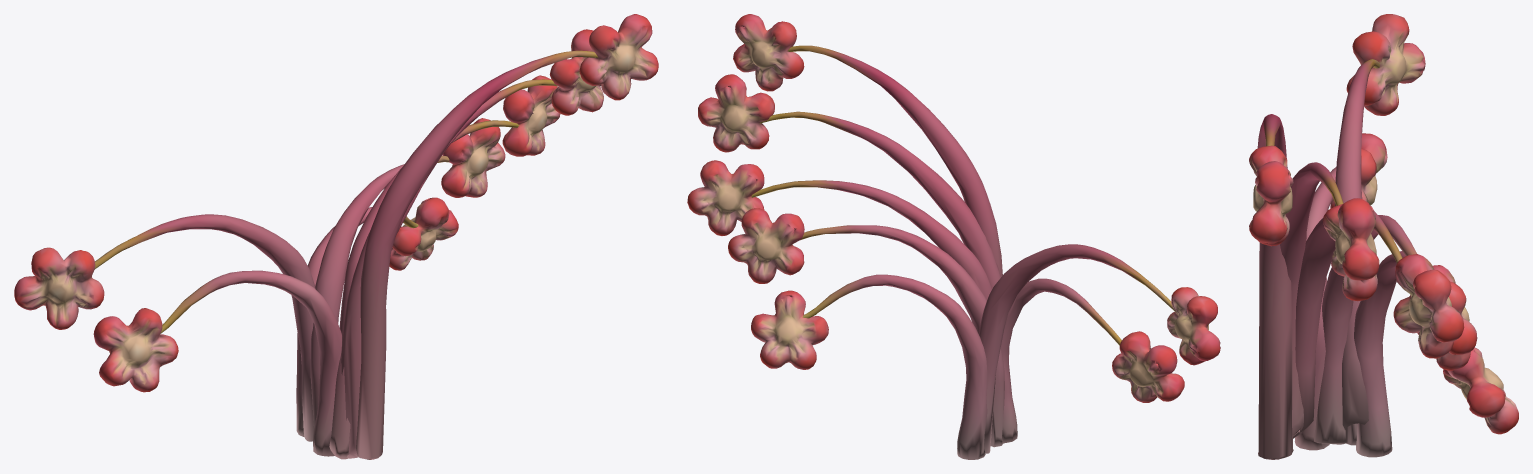
3 views of the same model, side by side, from view 1: azimuth 30°, elevation 25°; view 2: azimuth 150°, elevation 25°; view 3: azimuth 270°, elevation 25° (orthographic). The views are drawn at different scales.
Visible parts, largest first — view 1: LOD 4_6720493226539483728_d61aa4d54b65f9a4b9f71cf390cbd75f; view 2: LOD 4_6720493226539483728_d61aa4d54b65f9a4b9f71cf390cbd75f; view 3: LOD 4_6720493226539483728_d61aa4d54b65f9a4b9f71cf390cbd75f.
Part boxes in pixels (box(x1,y1,x2,y2)): LOD 4_6720493226539483728_d61aa4d54b65f9a4b9f71cf390cbd75f: box(14, 14, 658, 459); LOD 4_6720493226539483728_d61aa4d54b65f9a4b9f71cf390cbd75f: box(687, 14, 1220, 459); LOD 4_6720493226539483728_d61aa4d54b65f9a4b9f71cf390cbd75f: box(1249, 14, 1518, 459).
Size of the model in its own units: 13.85 by 8.59 by 4.65.
